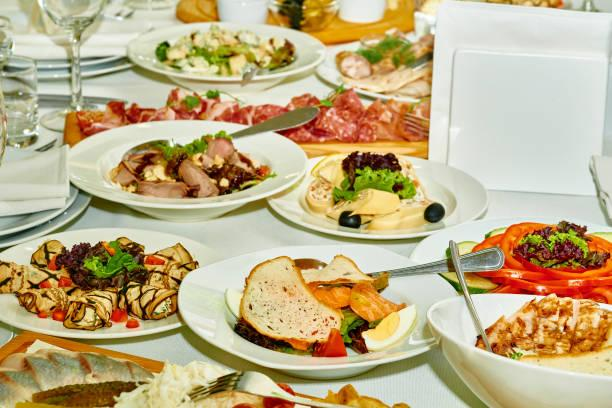Braised Crucian Carp: (179, 244, 443, 378), (1, 227, 218, 338), (66, 119, 301, 216), (427, 292, 611, 407), (267, 153, 485, 238), (410, 216, 608, 300), (127, 21, 319, 90)
